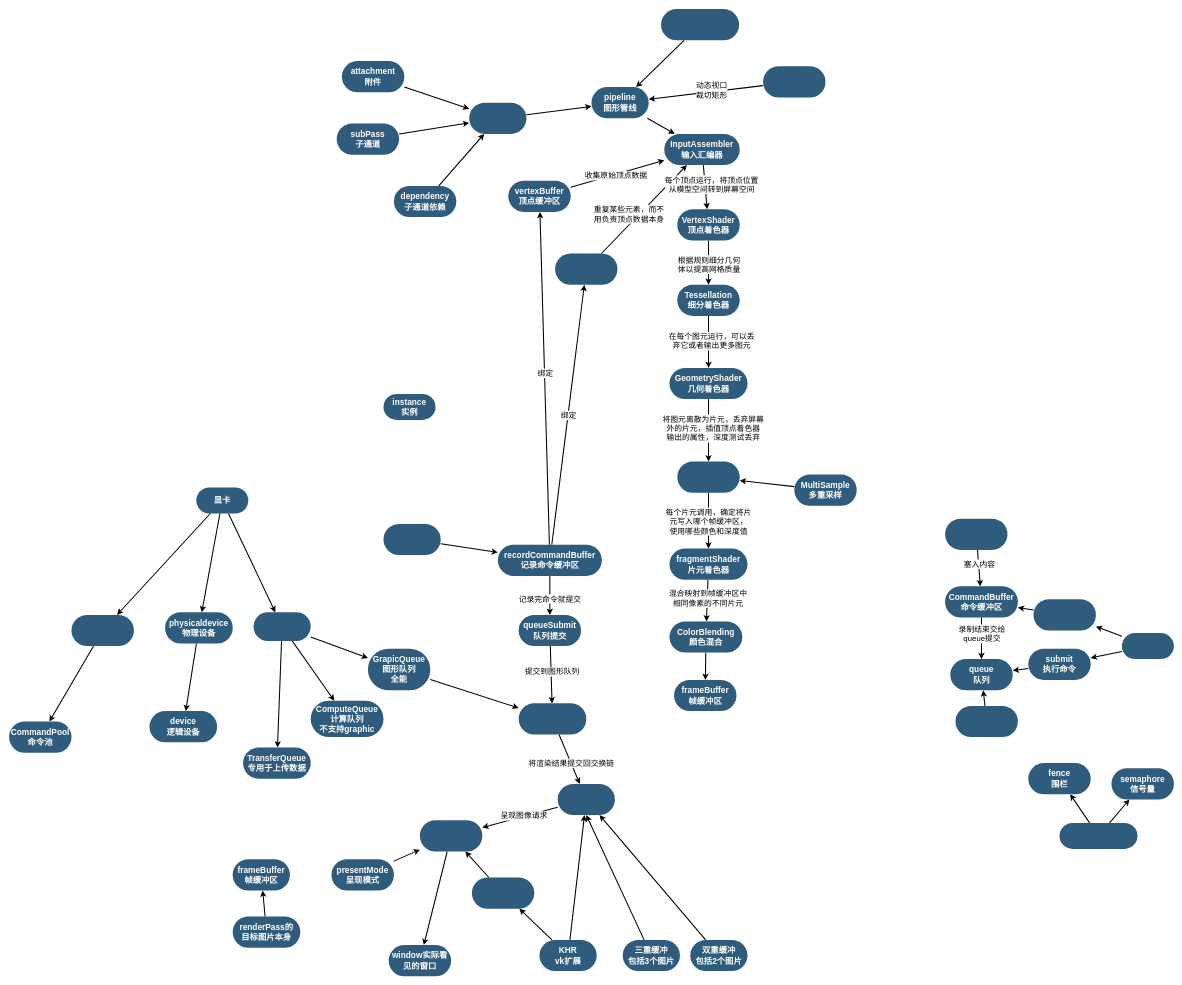
The diagram is 1182 pixels wide and 985 high, and some of its shapes have lost their labels. Here are the shapes that lost their labels. From the top down, the centre of each, then its label:
(x=700, y=24): pipelineLayout 管线布局
(x=794, y=81): dynamicState 管线状态
(x=497, y=118): renderPass 渲染通道
(x=586, y=268): indexBuffer 索引缓冲区
(x=708, y=476): Rasterization光栅化器
(x=411, y=539): drawFrame 绘制开始
(x=976, y=534): vkCmd开头 录制命令
(x=102, y=630): Memory 显存
(x=281, y=626): queueFamily 队列族
(x=1064, y=614): record 记录命令
(x=1148, y=646): Mantle世代API
(x=552, y=718): physicsQueue 图形队列
(x=986, y=721): vkQueue开头 提交队列
(x=586, y=799): SwapChain 交换链
(x=451, y=835): presentQueue 呈现队列
(x=1098, y=836): synchronization 同步
(x=503, y=892): surface 窗面
